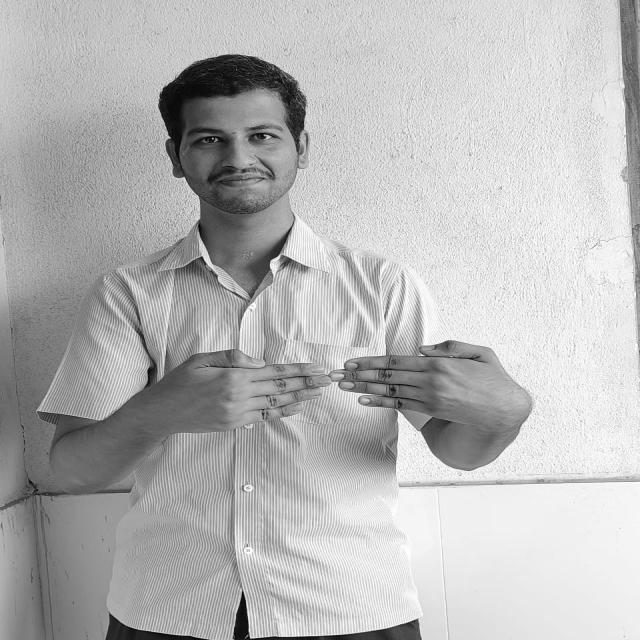Night: (145, 341, 523, 428)
